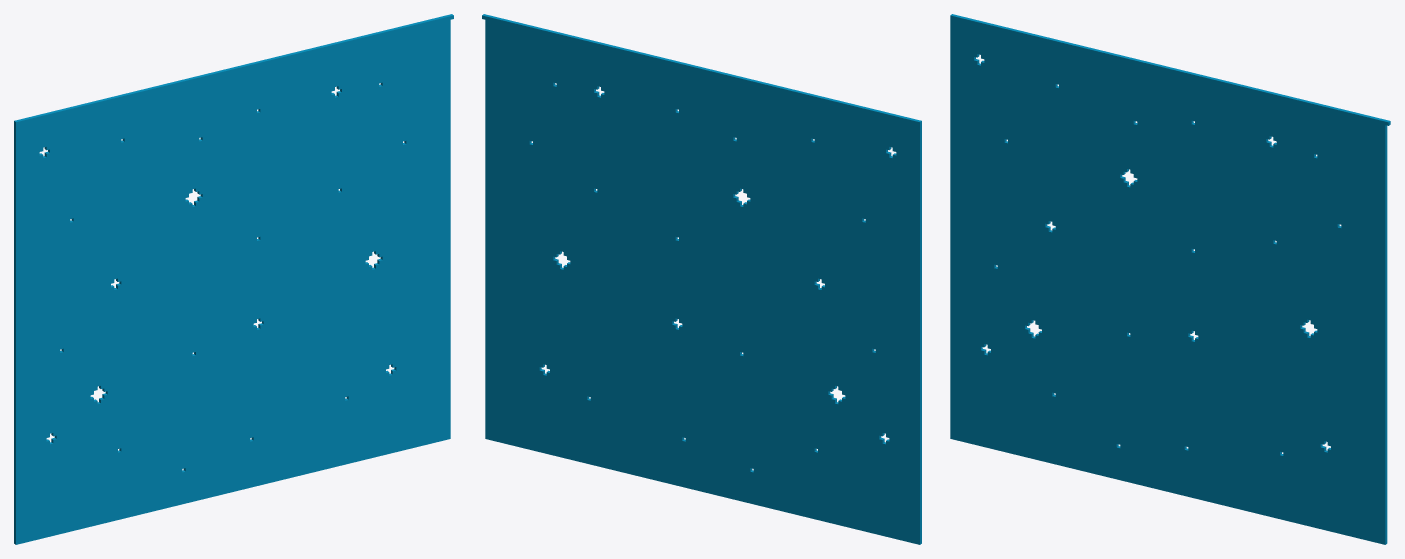
The model's file is goodnight-moon-1-sceneblue.obj.
3 views of the same model, side by side, from view 1: azimuth 30°, elevation 25°; view 2: azimuth 150°, elevation 25°; view 3: azimuth 330°, elevation 25° (orthographic).
Parts seen in each view (by area): view 1: sceneblue; view 2: sceneblue; view 3: sceneblue.
Part boxes in pixels (left/top/right/bottom): sceneblue: left=14, top=14, right=453, bottom=544; sceneblue: left=482, top=14, right=921, bottom=544; sceneblue: left=950, top=14, right=1390, bottom=544.
Bounding box in the file's own units: 12.9 × 11.9 × 0.1.
1 material, 1 textured.
